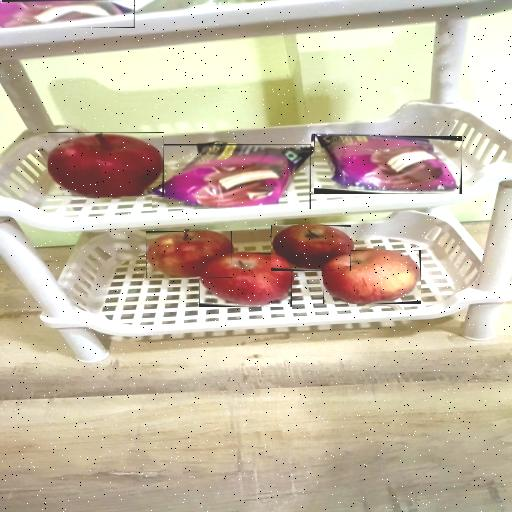Apple: (48, 132, 164, 196), (323, 250, 421, 304), (199, 253, 292, 307), (146, 231, 232, 278), (271, 225, 351, 271)
Choco Pie: (152, 144, 311, 209), (314, 136, 462, 194), (2, 0, 135, 28)
